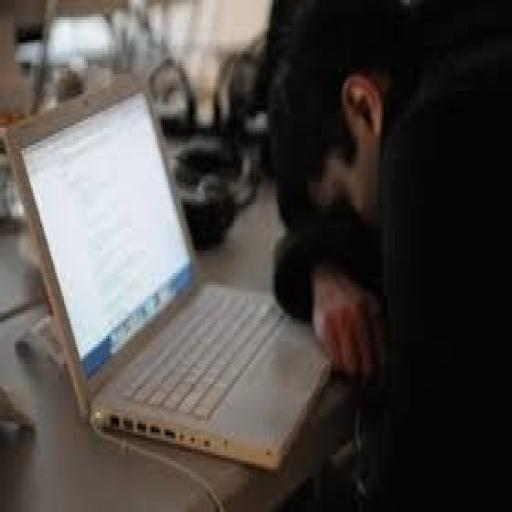sleeping: (178, 6, 474, 512)
